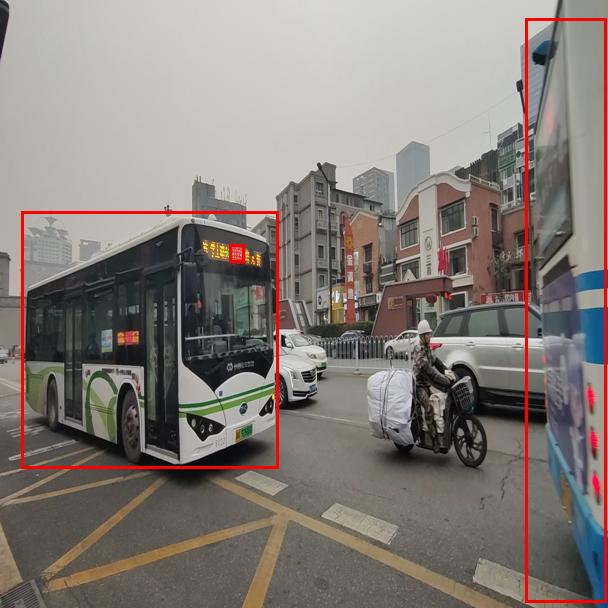bus: (21, 211, 278, 468), (525, 18, 606, 602)
screen: (229, 244, 244, 262)
